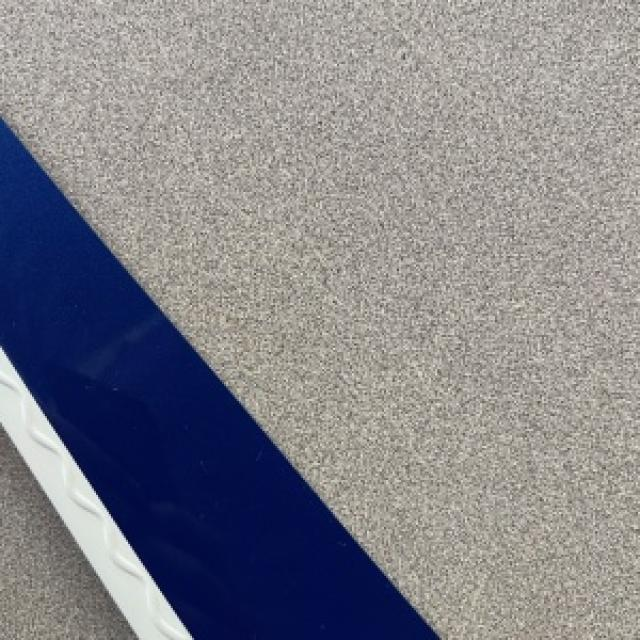healthy: (0, 0, 638, 638), (0, 119, 435, 638)
